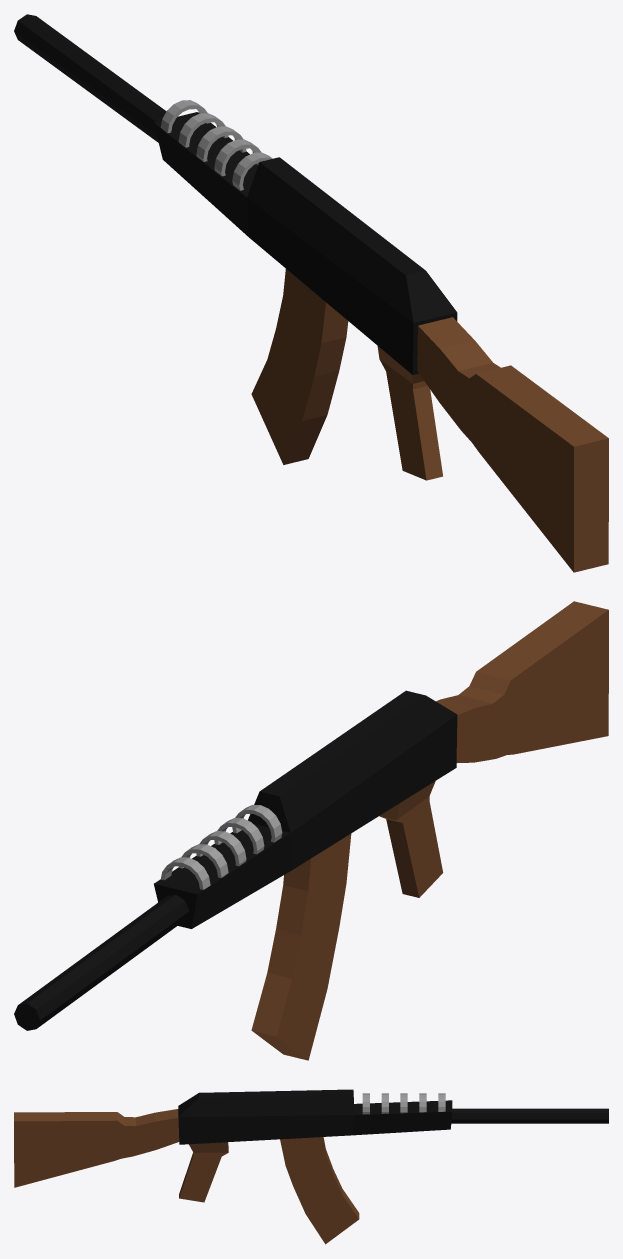
The model's file is assault_rifle_asset.fbx.
3 views of the same model, one above another, from view 1: azimuth 30°, elevation 25°; view 2: azimuth 150°, elevation 25°; view 3: azimuth 270°, elevation 25° (orthographic). The views are drawn at different scales.
Visible parts, largest first — view 1: Cube, Cube.003, Cube.002, Cylinder, Cube.001, Cylinder.001; view 2: Cube, Cube.003, Cube.002, Cylinder, Cube.001, Cylinder.001; view 3: Cube, Cube.003, Cube.002, Cylinder, Cube.001, Cylinder.001.
Part boxes in pixels (x1,y1,x2,y2): Cube: (154, 112, 457, 374); Cube.003: (417, 317, 608, 572); Cube.002: (251, 269, 348, 464); Cylinder: (14, 14, 166, 142); Cube.001: (377, 346, 443, 480); Cylinder.001: (160, 100, 272, 190); Cube: (154, 690, 457, 928); Cube.003: (436, 601, 608, 762); Cube.002: (251, 834, 351, 1060); Cylinder: (14, 894, 189, 1030); Cube.001: (379, 781, 443, 897); Cylinder.001: (160, 805, 282, 889); Cube: (178, 1089, 452, 1144); Cube.003: (14, 1109, 179, 1187); Cube.002: (280, 1137, 359, 1244); Cylinder: (451, 1108, 608, 1123); Cube.001: (179, 1142, 228, 1202); Cylinder.001: (362, 1093, 445, 1114).
Bounding box in the file's own units: 4.48 × 100 × 27.73.
